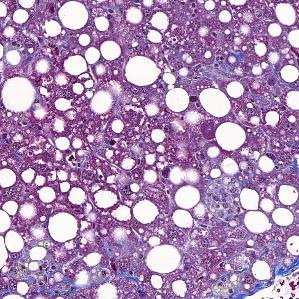fibrosis: (200, 181, 242, 228)
